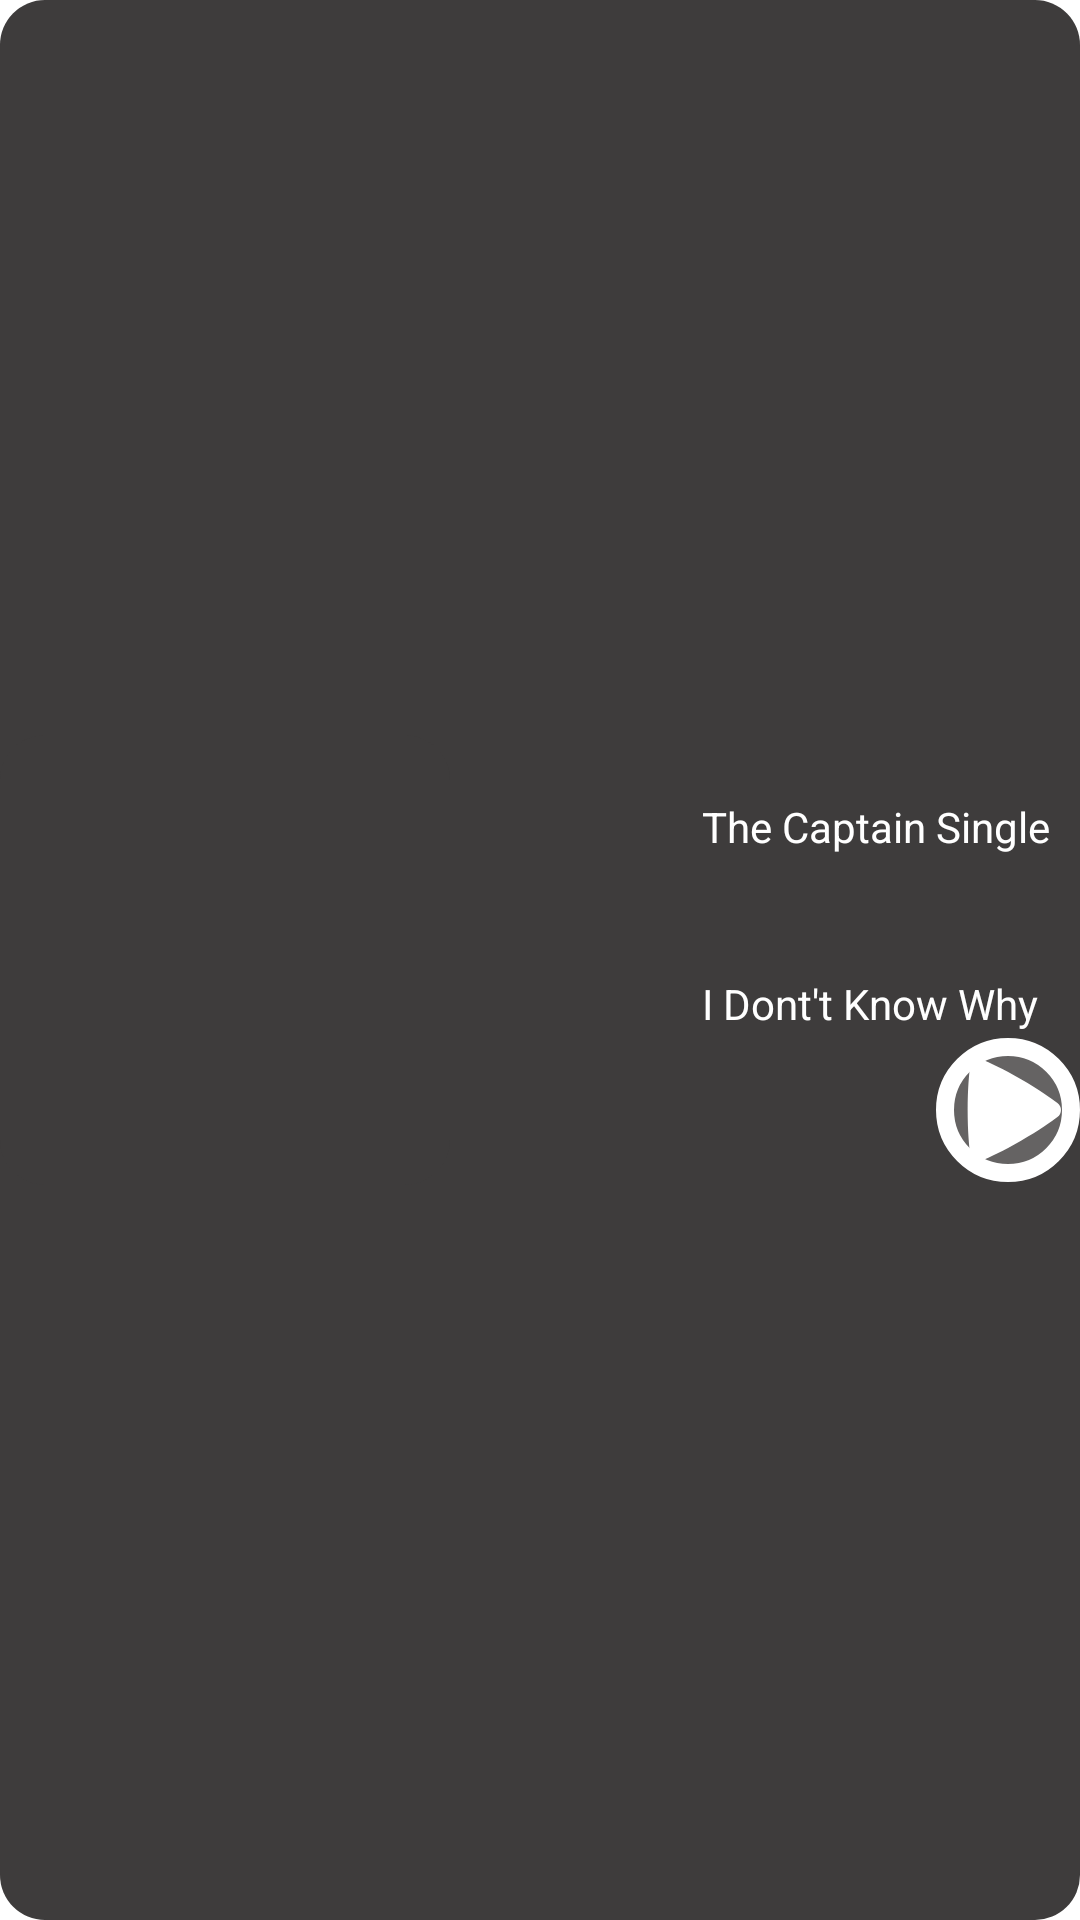

Point at icon controls on the screen. Image size 1080 × 1920, points as point (x, y).
play: point (1008, 1110)
